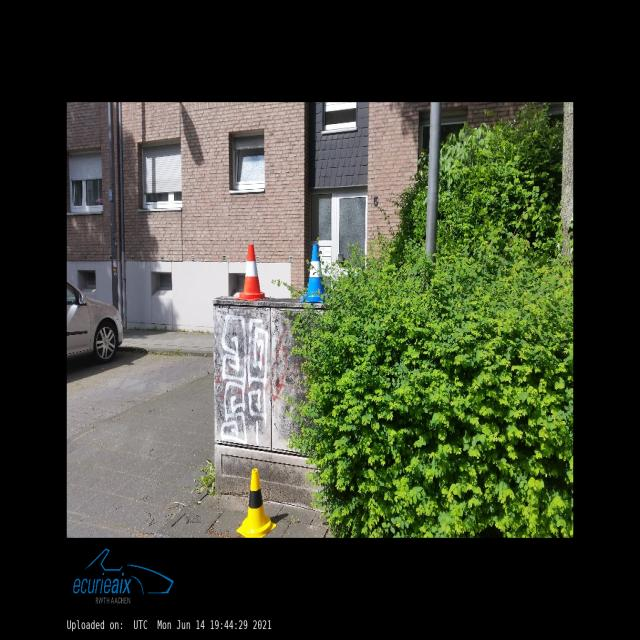blue_cone: (300, 244, 329, 302)
orange_cone: (235, 244, 269, 300)
yellow_cone: (237, 468, 276, 538)
